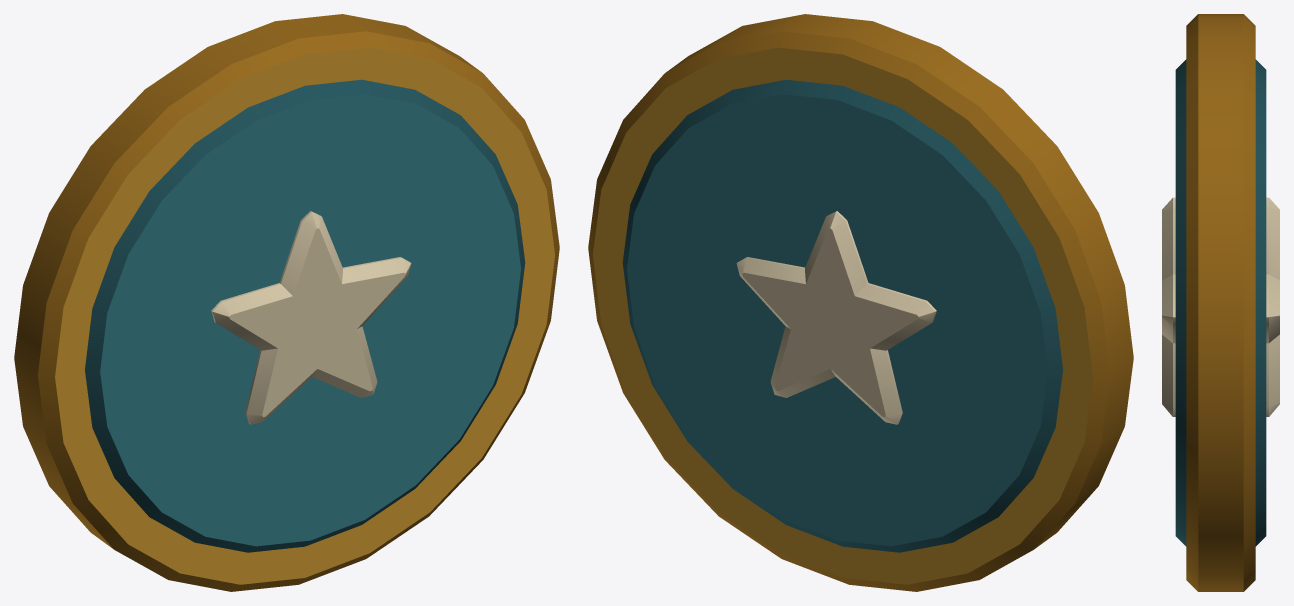
File: Badge_28.glb
3 renders of one model, left to right at view 1: azimuth 30°, elevation 25°; view 2: azimuth 150°, elevation 25°; view 3: azimuth 270°, elevation 25°, orthographic. The views are drawn at different scales.
Parts seen in each view (by area): view 1: Badge_28; view 2: Badge_28; view 3: Badge_28.
Boxes of the visible parts, x1=… form: Badge_28: x1=14, y1=14, x2=559, y2=591; Badge_28: x1=588, y1=14, x2=1133, y2=591; Badge_28: x1=1162, y1=14, x2=1279, y2=591.
Bounding box in the file's own units: 2.17 × 2.17 × 0.44.
